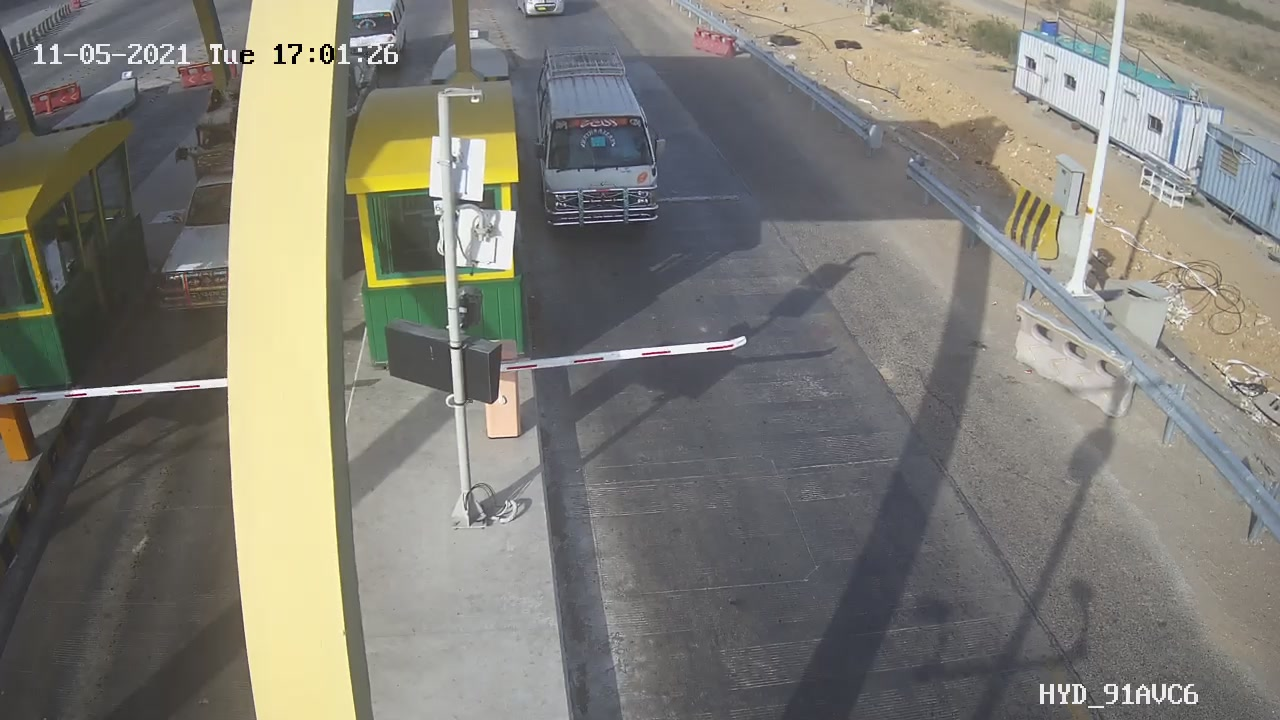F2: (517, 34, 685, 246)
